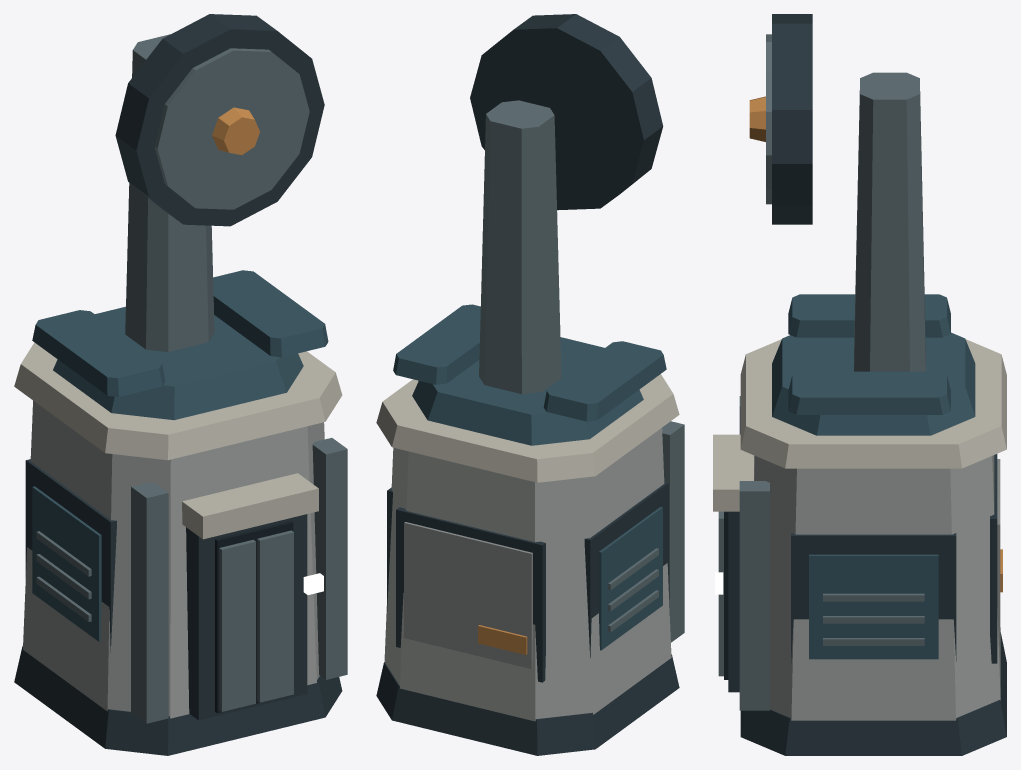
File: mill_t2.glb
The picture shows the model from 3 angles, left to right: view 1: azimuth 30°, elevation 25°; view 2: azimuth 150°, elevation 25°; view 3: azimuth 270°, elevation 25°; orthographic projection. The views are drawn at different scales.
Visible parts, largest first — view 1: body, part_rotor; view 2: body, part_rotor; view 3: body, part_rotor.
Boxes of the visible parts, x1,y1,x2,y2 form: body: (14, 34, 347, 755); part_rotor: (115, 14, 324, 226); body: (376, 100, 684, 755); part_rotor: (470, 14, 663, 210); body: (713, 72, 1006, 755); part_rotor: (749, 14, 812, 224).
Bounding box in the file's own units: 1.31 × 3.67 × 1.44.
